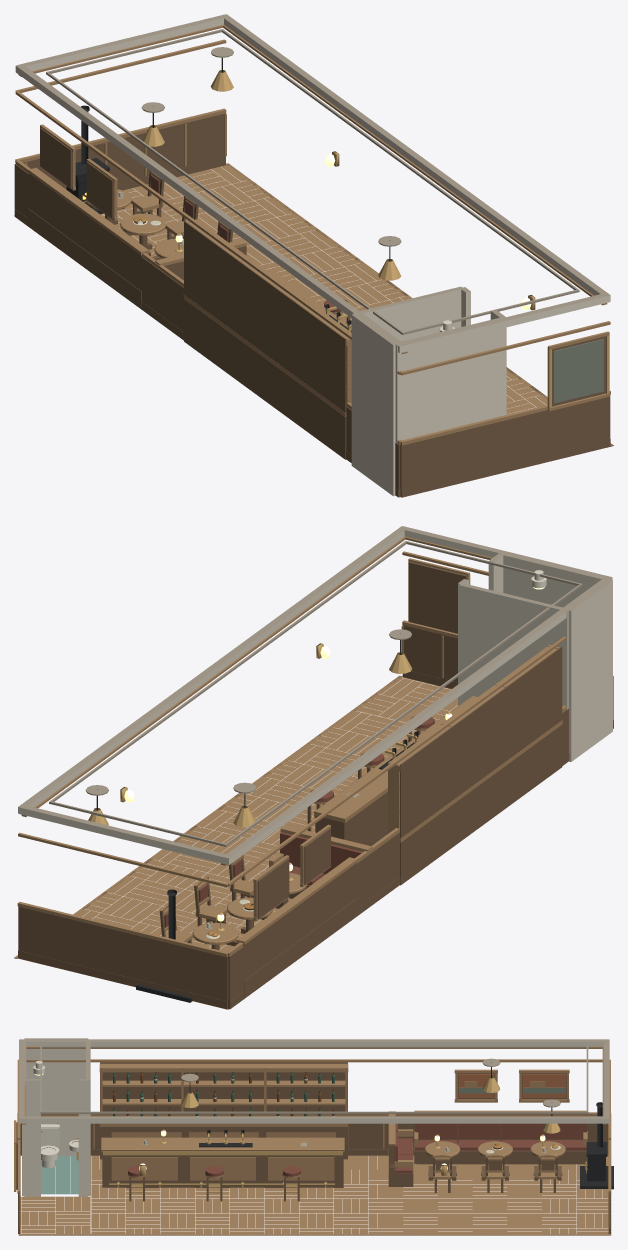
Rendered from pub-hospitality.glb.
3 renders of one model, top to bottom at view 1: azimuth 30°, elevation 25°; view 2: azimuth 150°, elevation 25°; view 3: azimuth 270°, elevation 25°, orthographic. The views are drawn at different scales.
Visible parts, largest first — view 1: pub_warm_interior; view 2: pub_warm_interior; view 3: pub_warm_interior.
Part boxes in pixels (x1,y1,x2,y2): pub_warm_interior: [14, 14, 613, 497]; pub_warm_interior: [14, 526, 613, 1009]; pub_warm_interior: [14, 1038, 613, 1235].
Bounding box in the file's own units: 5.12 × 3.4 × 15.92.
